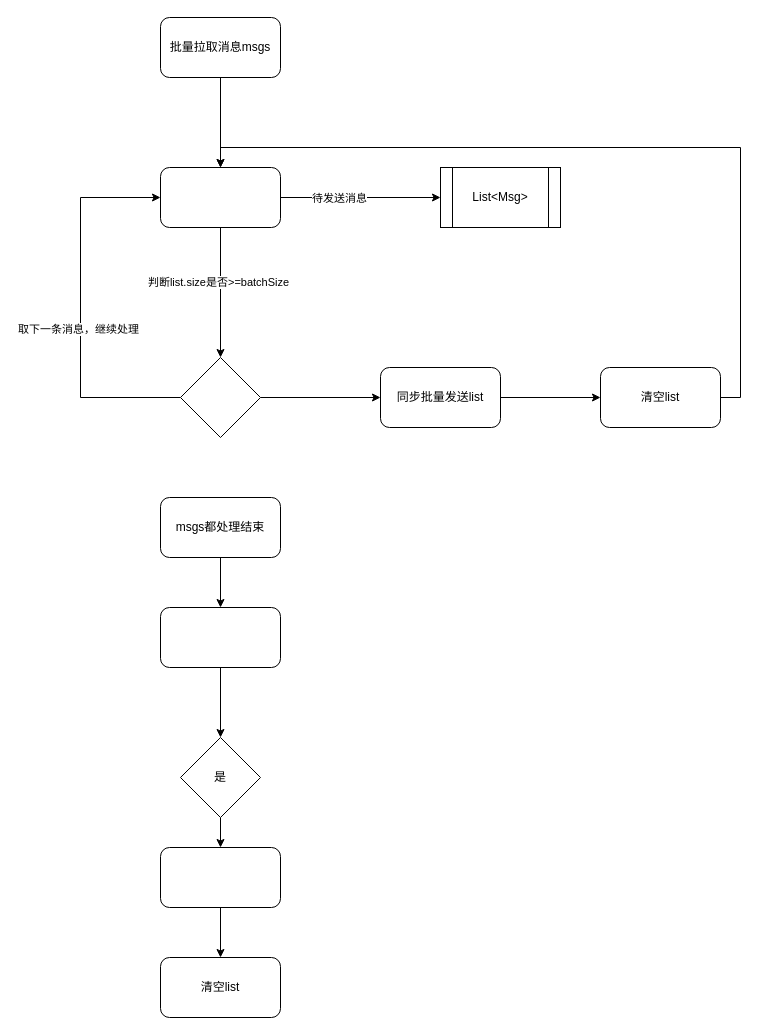
This 766x1035 diagram has some shape labels left out. Each missing label, with the centre of its shape:
msgs取出一条消息，撮合成功后: (220,197)
发送消息: (220,877)
否/是: (220,397)
检测list是否有消息: (220,637)
